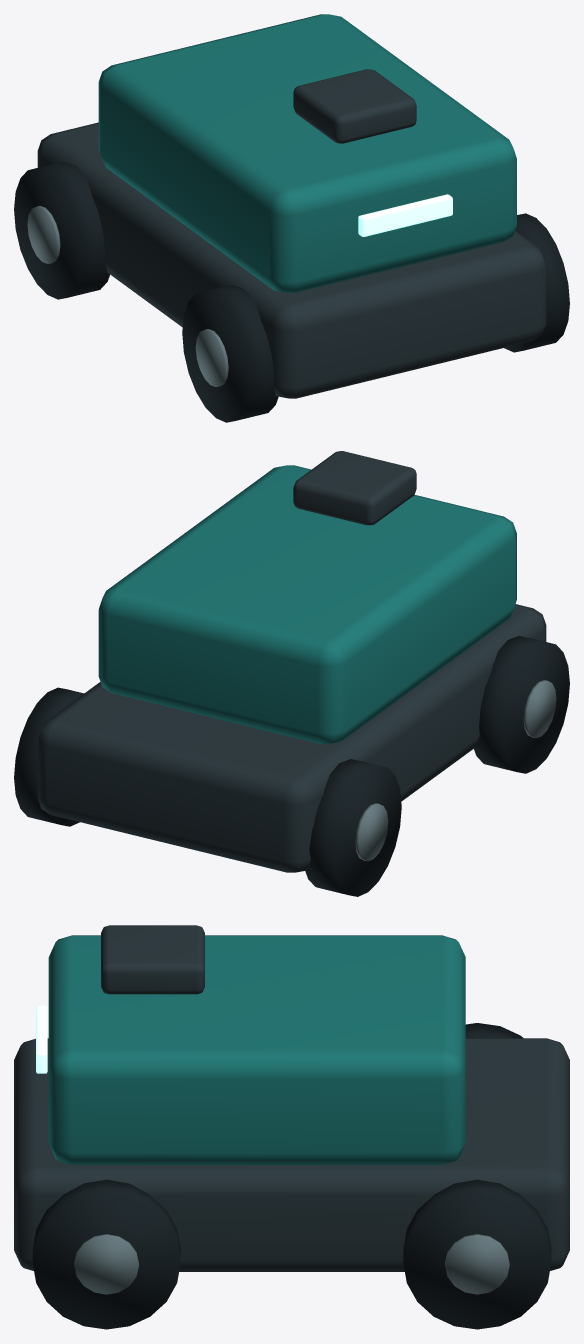
The model's file is cargo_rover.glb.
3 views of the same model, one above another, from view 1: azimuth 30°, elevation 25°; view 2: azimuth 150°, elevation 25°; view 3: azimuth 270°, elevation 25° (orthographic). The views are drawn at different scales.
Visible parts, largest first — view 1: cargo_rover; view 2: cargo_rover; view 3: cargo_rover.
Part boxes in pixels (<box>): cargo_rover: <box>14,14,569,422</box>; cargo_rover: <box>14,451,569,896</box>; cargo_rover: <box>14,925,569,1329</box>.
Bounding box in the file's own units: 1.82 × 1.42 × 2.4.
